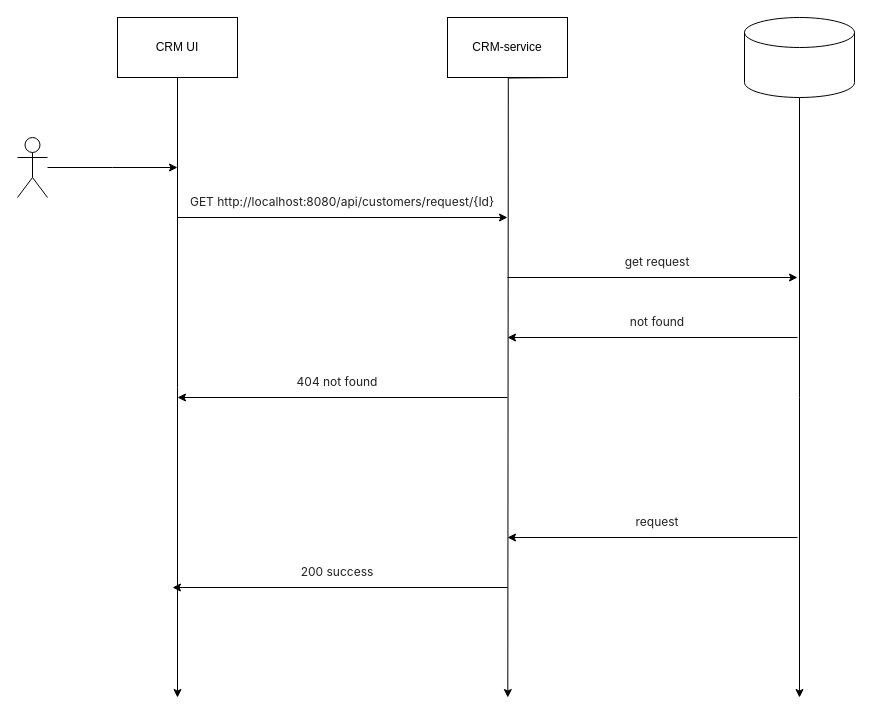
Some shapes in this 872 by 723 pixel diagram are drawn without their labels. The shapes that lost their labels are listed below. From the top down, each one's centre as x and y in pixels, then its label:
(799,57): customer_request
(32,167): Actor
